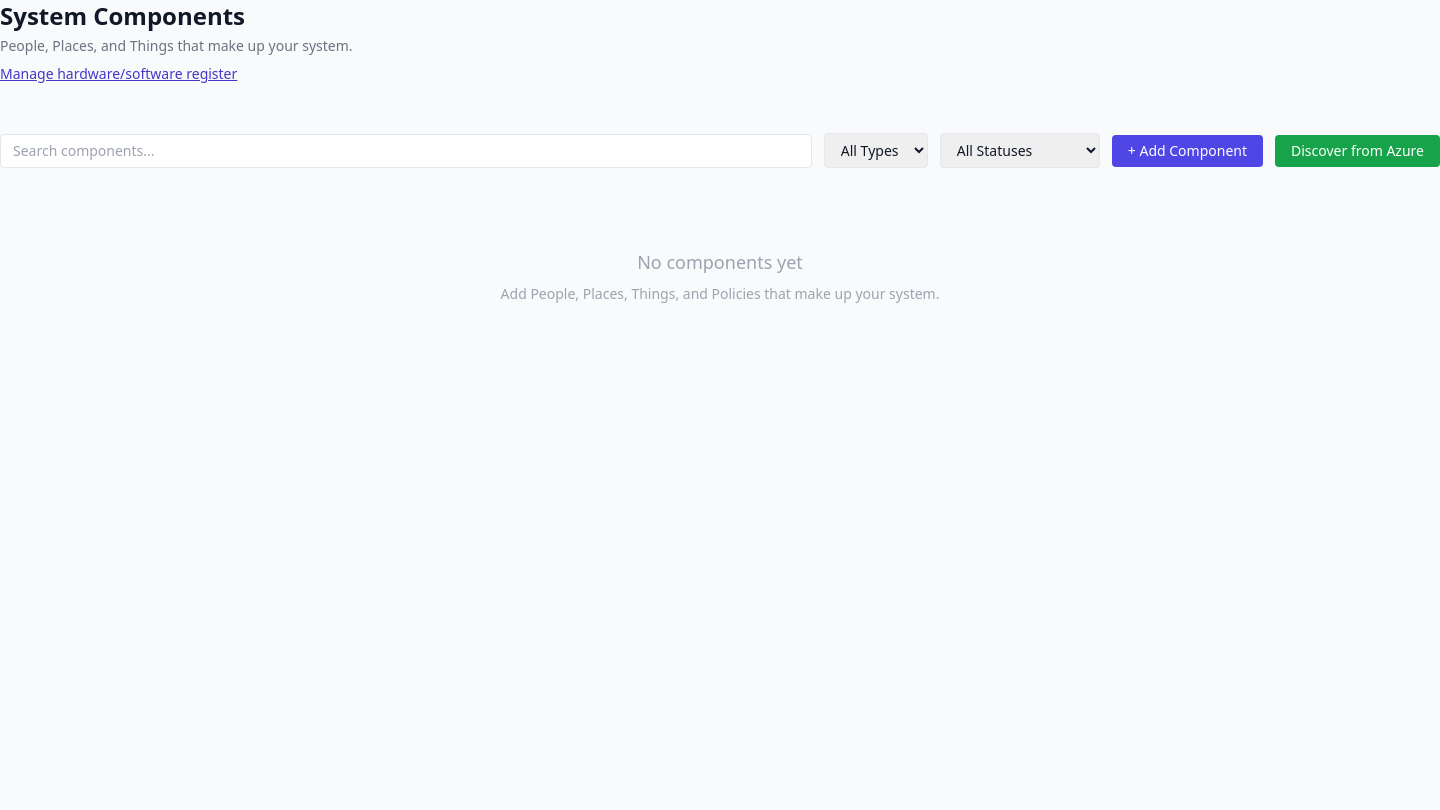
it: ComponentInventory — Add Existing empty-state messages › (B) shows "all assigned" copy when every org component is already on this system
The image size is (1440, 810).
What coordinates should you click on to do the following:
click the button "+ Add Component"
I would click on:
 (1187, 150)
Its box is [1112, 134, 1263, 166].
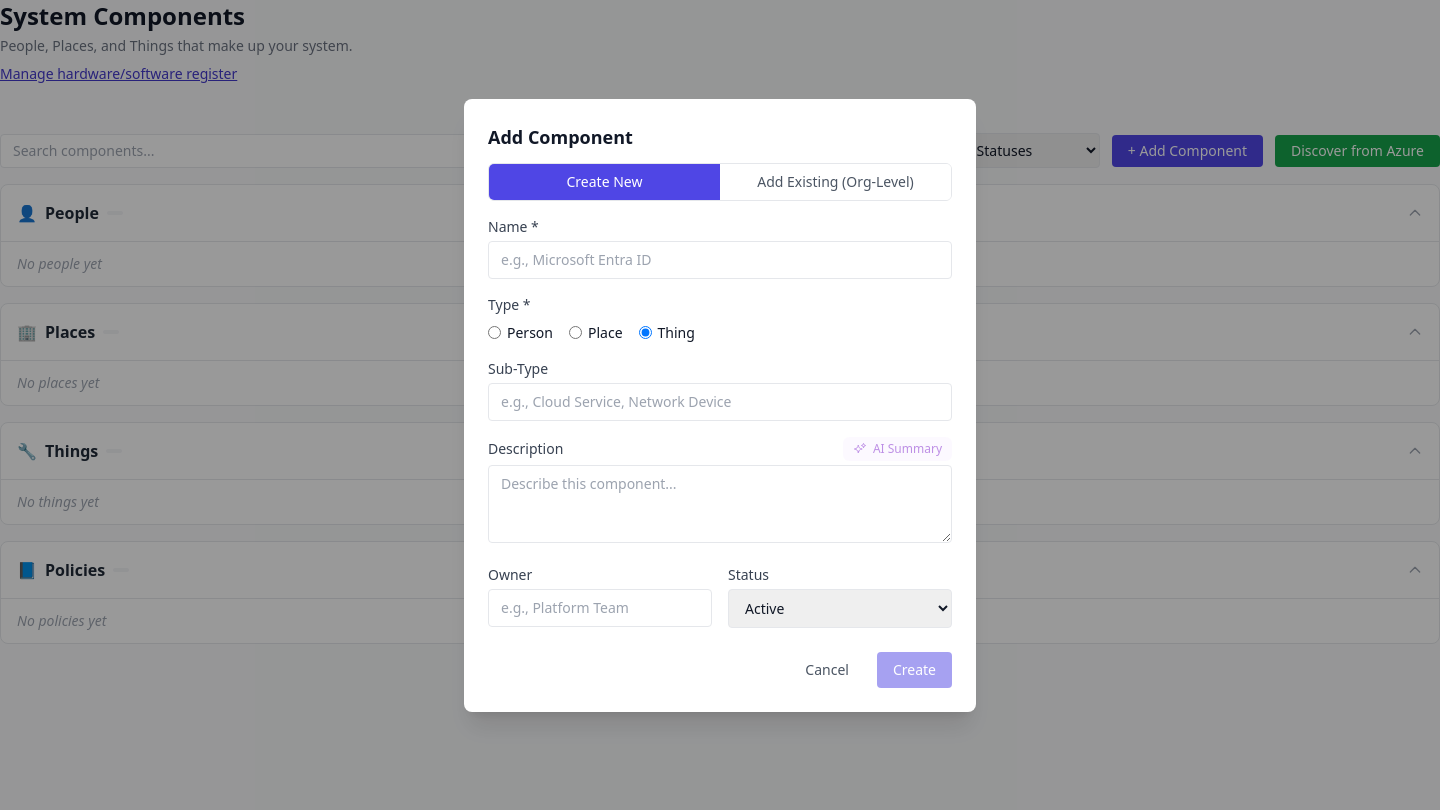
What coordinates should you click on to do the following:
click the button "Add Existing (Org-Level)"
I would click on:
 (836, 182)
Its box is [720, 164, 951, 200].
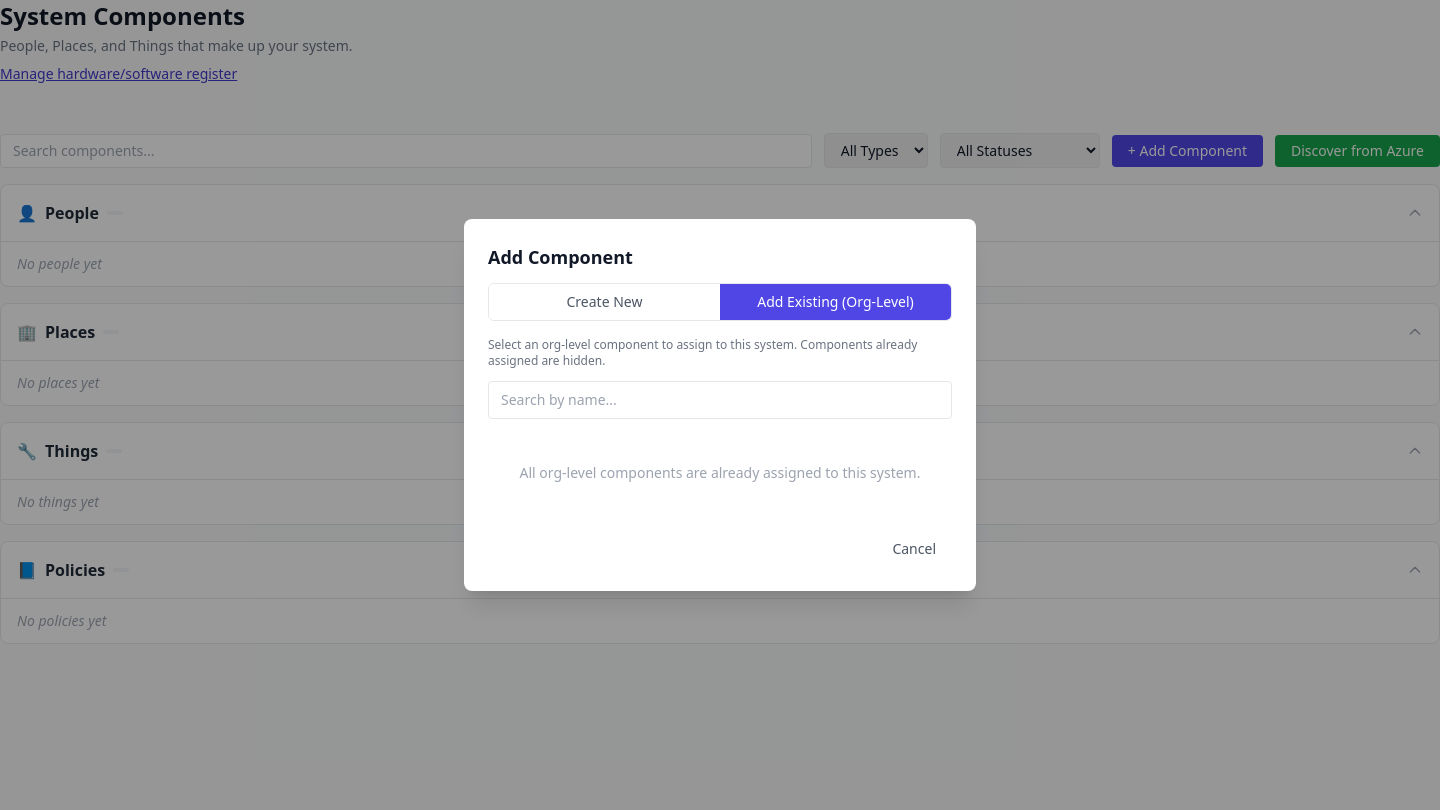
Check: the text "All org-level components are already assigned to this system" is shown, box [520, 463, 920, 482]
